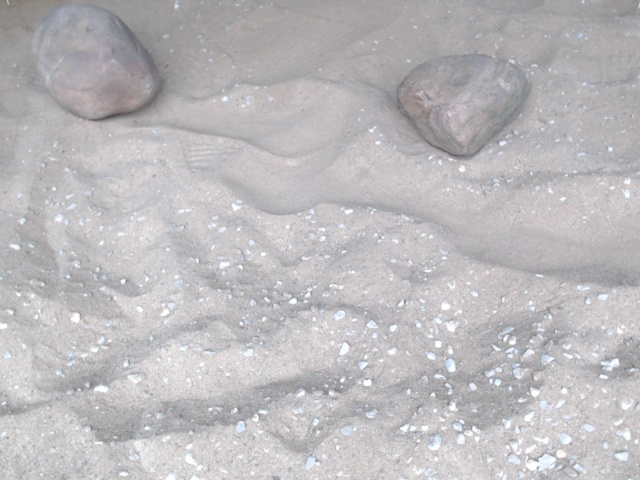rock: (24, 1, 165, 124), (390, 49, 533, 165)
